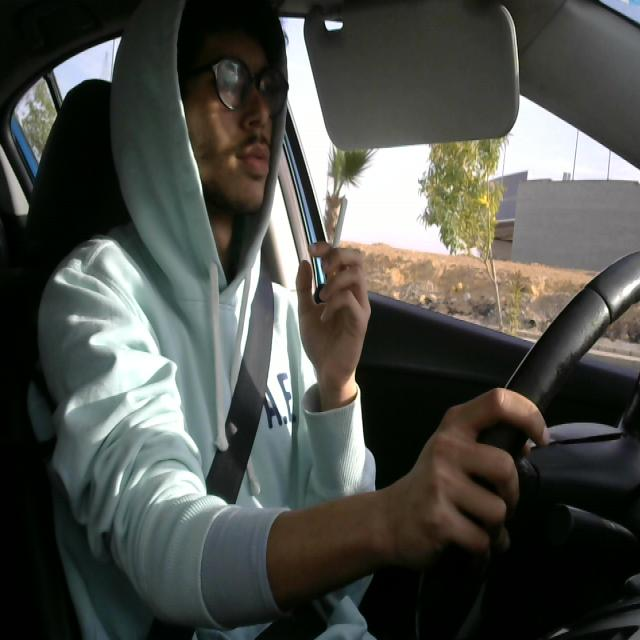smoking: (318, 188, 350, 301)
